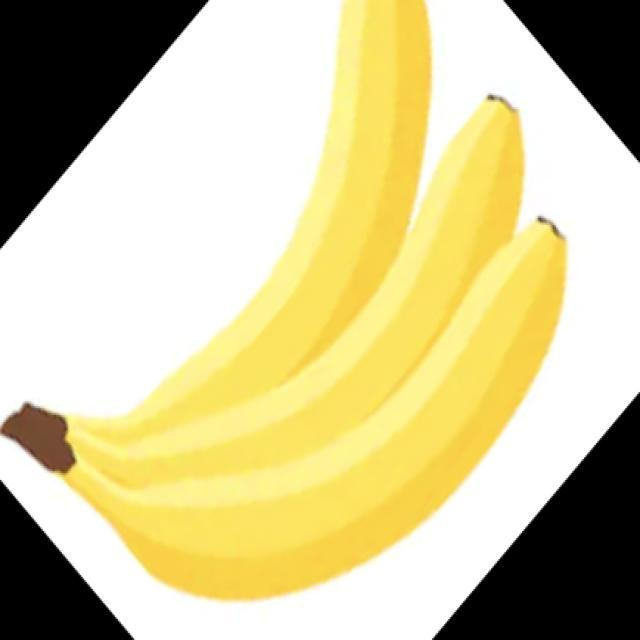Banana: (0, 0, 568, 602)
